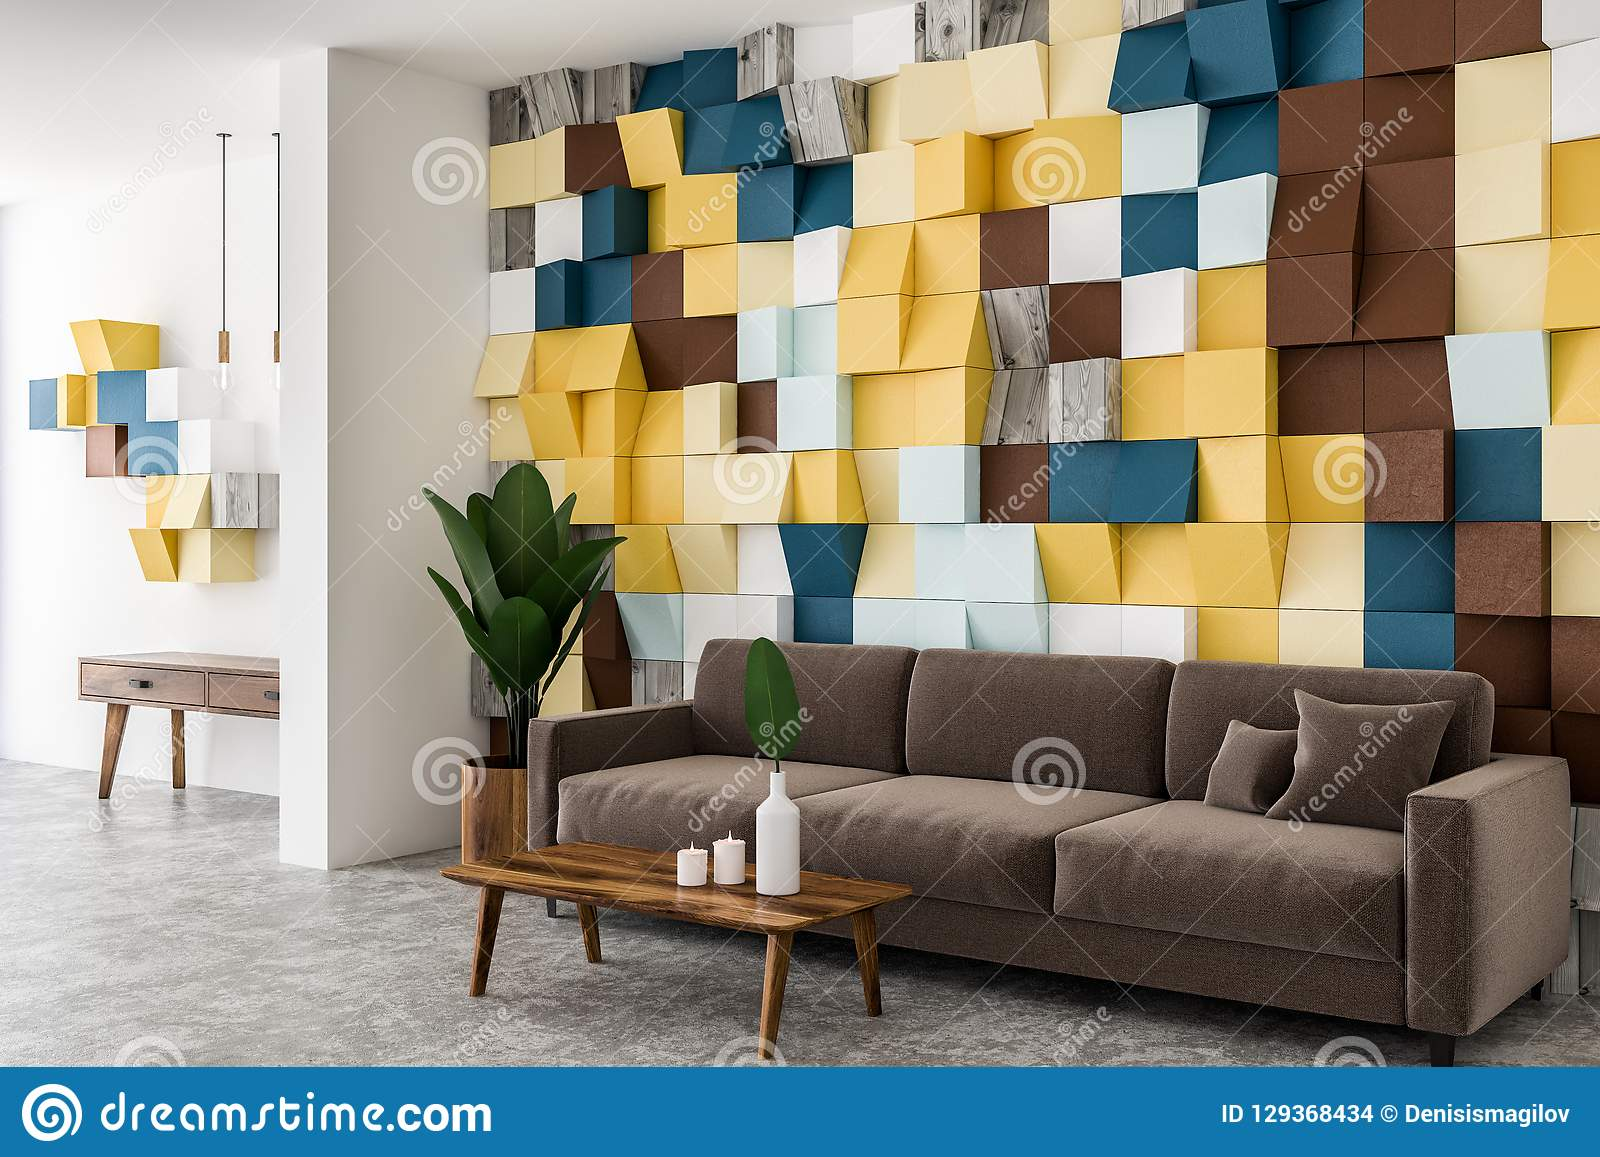biru: (1189, 1, 1276, 96), (1046, 452, 1119, 517), (29, 380, 61, 426)
kuning: (1180, 354, 1266, 436), (839, 296, 906, 367), (75, 319, 163, 370)
putih: (754, 780, 804, 900), (148, 377, 214, 425)
